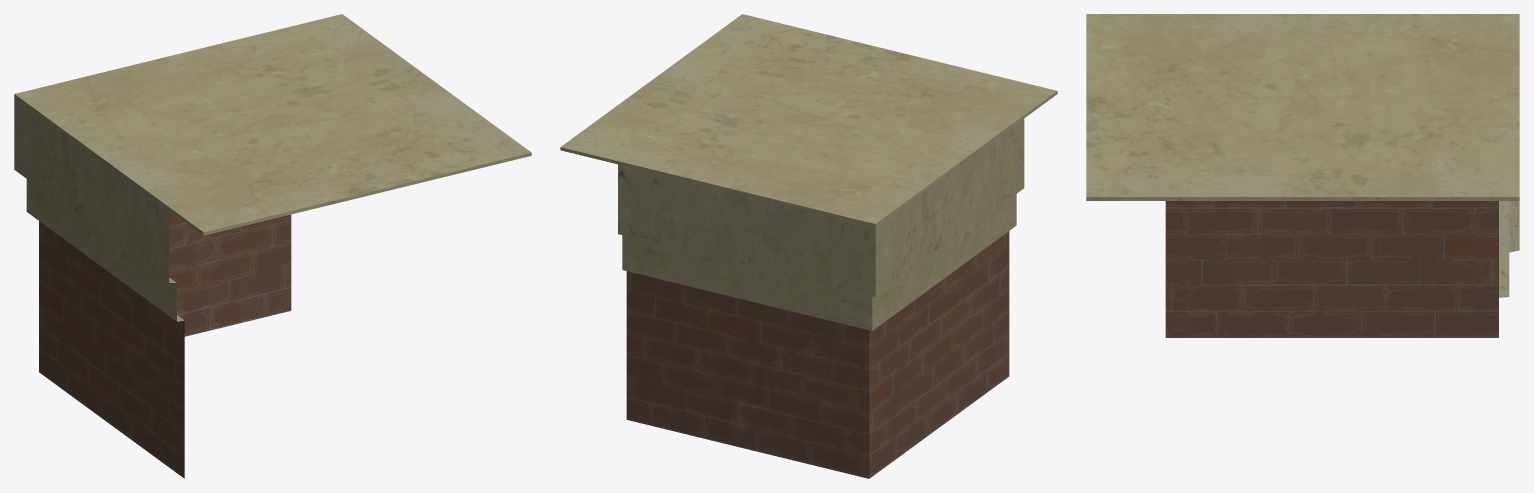
The model's file is Brick_CornerColumn_Cap.gltf.
The picture shows the model from 3 angles, left to right: view 1: azimuth 30°, elevation 25°; view 2: azimuth 150°, elevation 25°; view 3: azimuth 270°, elevation 25°; orthographic projection. The views are drawn at different scales.
Visible parts, largest first — view 1: Brick_CornerColumn_Cap; view 2: Brick_CornerColumn_Cap; view 3: Brick_CornerColumn_Cap.
Boxes of the visible parts, left/top/right/bottom form: Brick_CornerColumn_Cap: left=14, top=14, right=531, bottom=478; Brick_CornerColumn_Cap: left=560, top=14, right=1057, bottom=478; Brick_CornerColumn_Cap: left=1086, top=14, right=1519, bottom=337.
Bounding box in the file's own units: 1.26 × 1.01 × 1.26.
2 materials, 2 textured.
